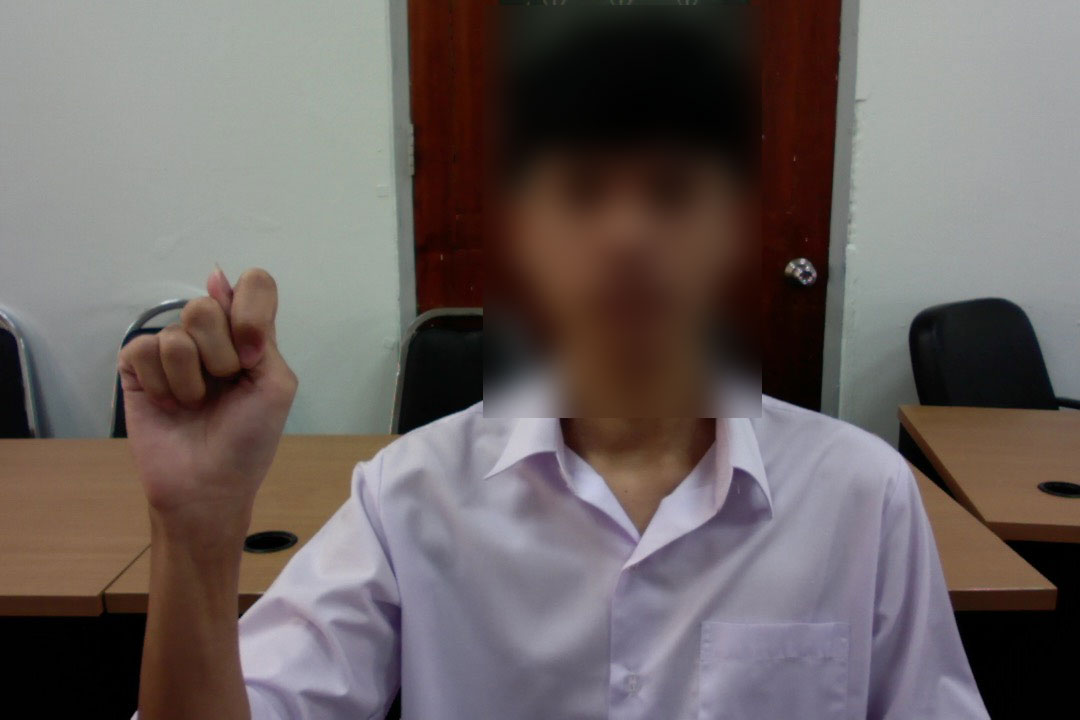tor: (113, 259, 301, 541)
